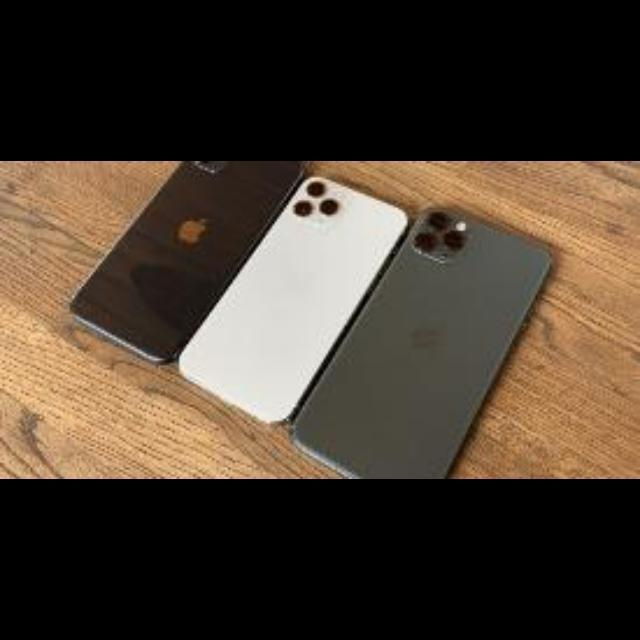PhoneUse: (309, 196, 553, 479), (192, 168, 408, 424), (64, 161, 304, 379)
